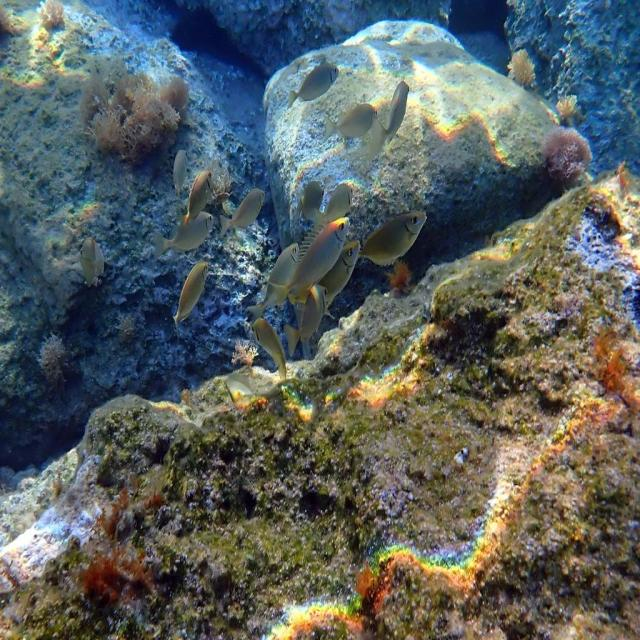Sokar Baligi: (281, 53, 347, 114), (168, 255, 216, 336)
